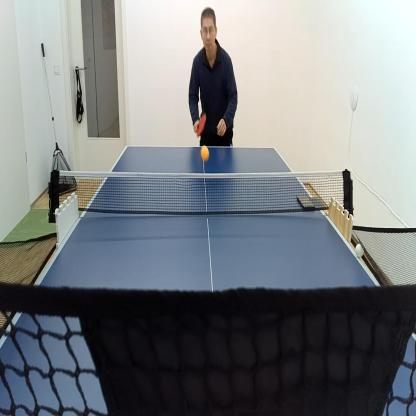Ball: (355, 242, 365, 260), (200, 144, 210, 162)
